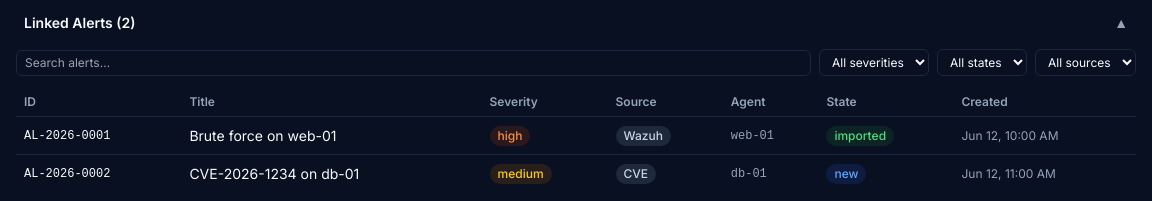
Test case: LinkedAlertsPanel › filters rows by severity select
Expected: the text "Brute force on web-01" is shown, [181, 116, 482, 154]
Select "medium" in the dropdown named "Filter by severity" at (874, 62), box [819, 49, 929, 76]
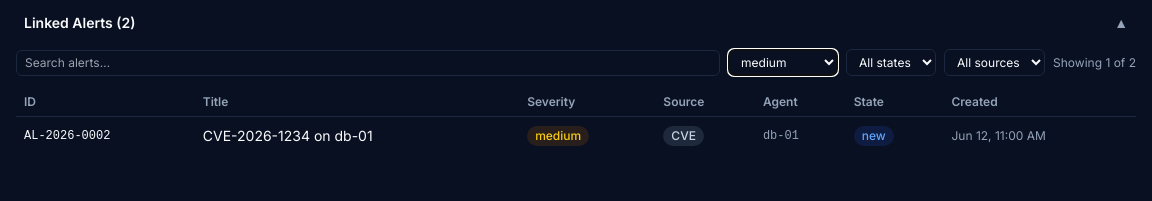
Expected: the text "CVE-2026-1234 on db-01" is shown, [195, 116, 519, 154]
Now the text "Brute force on web-01" is gone
